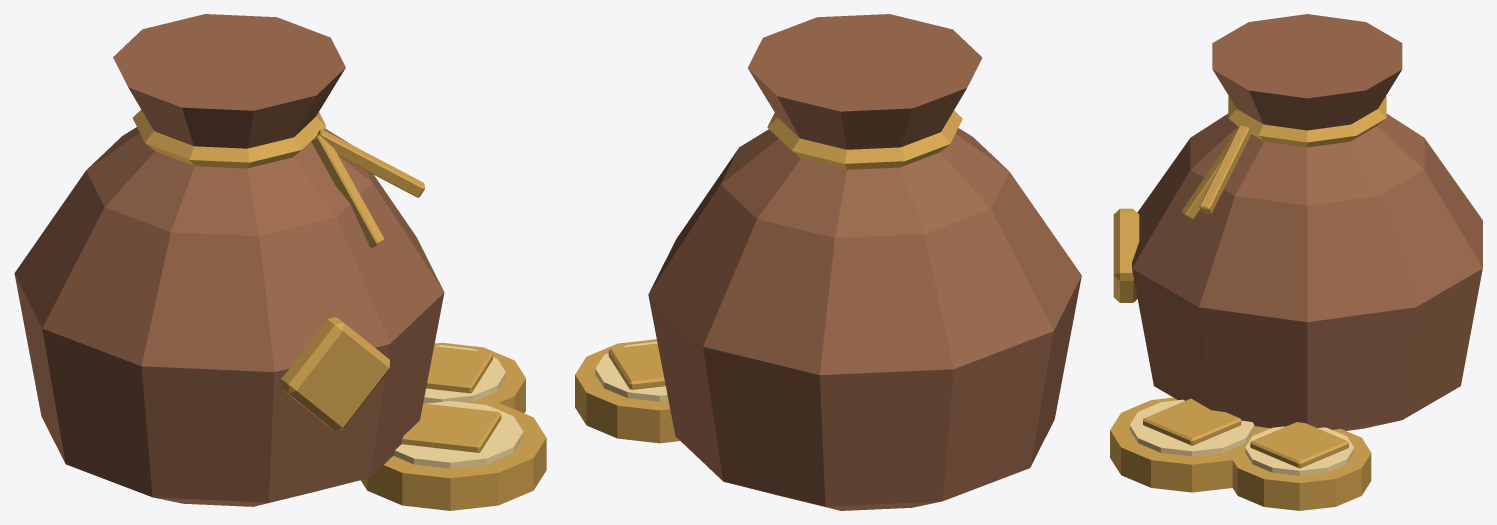
File: 10_Coin_Pouch.glb
The picture shows the model from 3 angles, left to right: view 1: azimuth 30°, elevation 25°; view 2: azimuth 150°, elevation 25°; view 3: azimuth 270°, elevation 25°; orthographic projection. The views are drawn at different scales.
Visible parts, largest first — view 1: 10_Coin_Pouch__Body; view 2: 10_Coin_Pouch__Body; view 3: 10_Coin_Pouch__Body.
Part boxes in pixels (<box>): 10_Coin_Pouch__Body: <box>14,14,546,510</box>; 10_Coin_Pouch__Body: <box>575,14,1081,510</box>; 10_Coin_Pouch__Body: <box>1110,14,1482,510</box>.
Size of the model in its own units: 1.8 by 1.46 by 1.45.
Materials: 1 (1 with a texture image).
